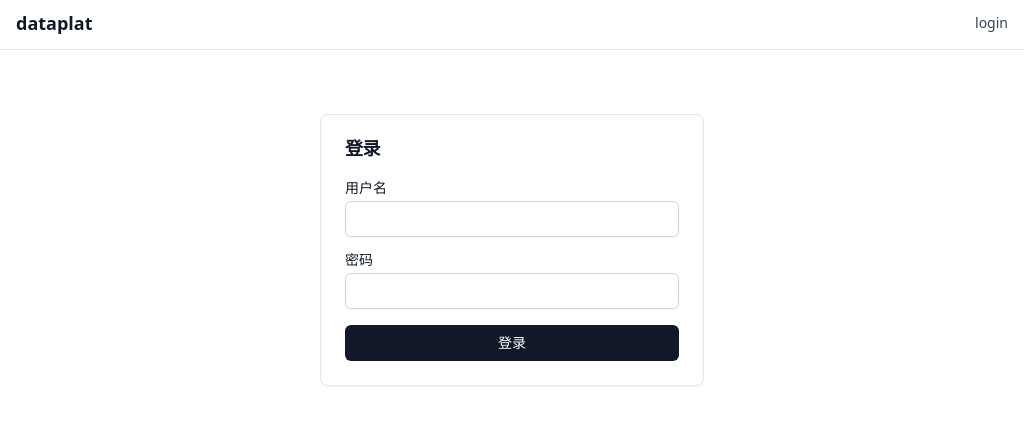
login page › shows validation error when submitting empty form
The width and height of the screenshot is (1024, 447).
Click the button "登录" at (512, 343), box [345, 325, 679, 361]
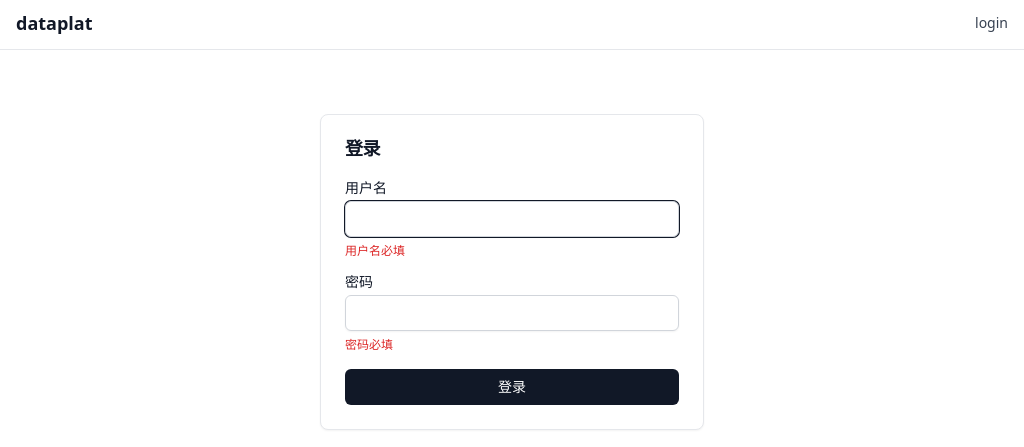
Result: the text "用户名必填" is shown at [345, 242, 405, 259]
